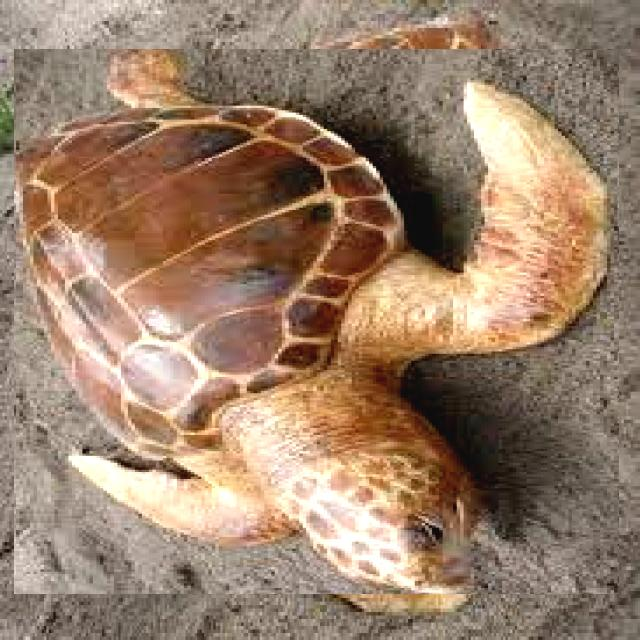Sea turtle: (29, 34, 605, 609)
